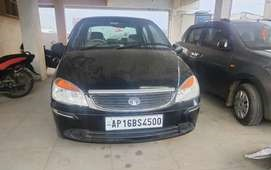AP16BS4500: (105, 114, 163, 129)
